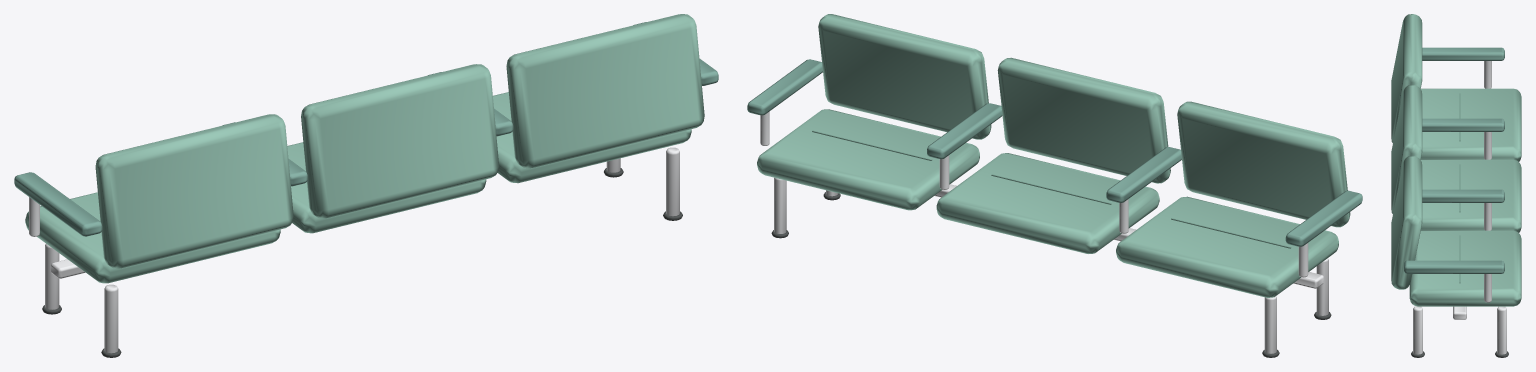
File: banco.glb
3 views of the same model, side by side, from view 1: azimuth 30°, elevation 25°; view 2: azimuth 150°, elevation 25°; view 3: azimuth 270°, elevation 25° (orthographic). The views are drawn at different scales.
Parts seen in each view (by area): view 1: respaldo1, respaldo0, respaldo2, asiento0, asiento1, asiento2, reposa-0.9, pata-0.82-0.15, pata0.82-0.15, pata-0.820.15; view 2: respaldo0, respaldo2, respaldo1, asiento1, asiento2, asiento0, reposa-0.9, reposa0.9, reposa-0.3, reposa0.3, pata-0.820.15, pata0.820.15 (+2 smaller); view 3: asiento2, asiento0, asiento1, respaldo2, respaldo0, respaldo1, reposa0.9, reposa-0.3, reposa-0.9, reposa0.3, pata0.82-0.15, pata0.820.15 (+5 smaller).
Part boxes in pixels (bbox=[...]): respaldo1: bbox=[301, 64, 499, 218]; respaldo0: bbox=[95, 114, 293, 268]; respaldo2: bbox=[506, 14, 704, 168]; asiento0: bbox=[25, 192, 280, 283]; asiento1: bbox=[287, 142, 486, 233]; asiento2: bbox=[493, 92, 691, 183]; reposa-0.9: bbox=[14, 172, 102, 236]; pata-0.82-0.15: bbox=[104, 284, 118, 353]; pata0.82-0.15: bbox=[666, 147, 679, 216]; pata-0.820.15: bbox=[45, 244, 59, 309]; respaldo0: bbox=[1177, 101, 1350, 227]; respaldo2: bbox=[818, 14, 991, 139]; respaldo1: bbox=[997, 57, 1170, 183]; asiento1: bbox=[936, 153, 1159, 253]; asiento2: bbox=[757, 109, 979, 210]; asiento0: bbox=[1116, 196, 1338, 297]; reposa-0.9: bbox=[1285, 190, 1362, 246]; reposa0.9: bbox=[747, 59, 822, 115]; reposa-0.3: bbox=[1106, 147, 1181, 202]; reposa0.3: bbox=[927, 103, 1002, 159]; pata-0.820.15: bbox=[1264, 296, 1276, 353]; pata0.820.15: bbox=[774, 177, 786, 233]; asiento2: bbox=[1409, 230, 1521, 306]; asiento0: bbox=[1421, 88, 1521, 161]; asiento1: bbox=[1421, 159, 1521, 232]; respaldo2: bbox=[1391, 156, 1422, 289]; respaldo0: bbox=[1391, 14, 1422, 142]; respaldo1: bbox=[1391, 85, 1422, 213]; reposa0.9: bbox=[1404, 260, 1504, 273]; reposa-0.3: bbox=[1422, 118, 1504, 131]; reposa-0.9: bbox=[1422, 47, 1504, 60]; reposa0.3: bbox=[1422, 189, 1504, 202]; pata0.82-0.15: bbox=[1413, 306, 1422, 354]; pata0.820.15: bbox=[1497, 306, 1506, 354].
Size of the model in its own units: 1.86 by 0.5686 by 0.4653.
